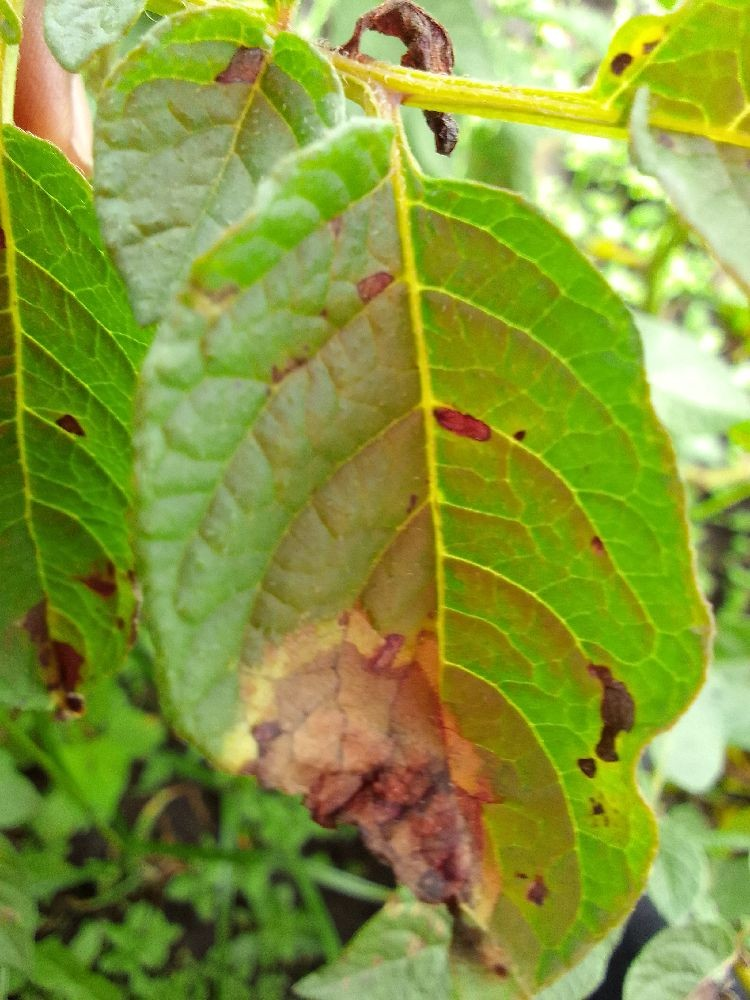late_blight: (199, 194, 653, 999), (5, 728, 284, 1000), (303, 0, 471, 128), (0, 574, 108, 741)
